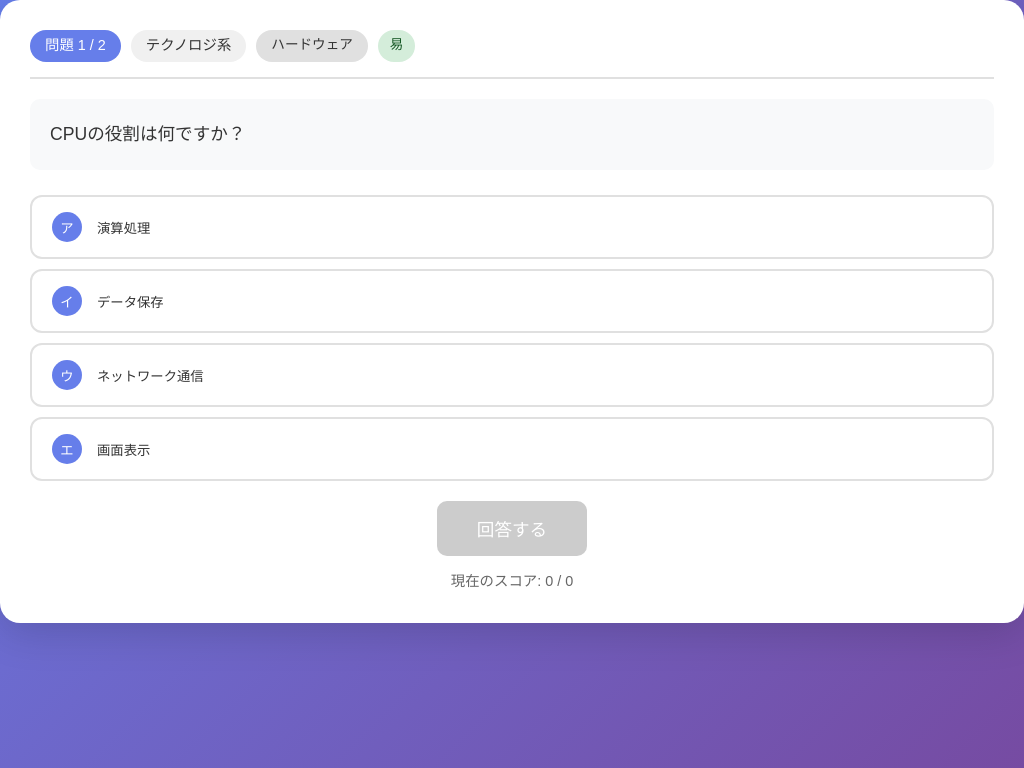
it: Quiz › answer selection › should enable submit button when answer selected
Expected: the button "回答する" is disabled, [437, 501, 587, 556]
What coordinates should you click on to do the following:
click the button "ア 演算処理"
I would click on:
 (124, 228)
Its box is [30, 195, 994, 259].
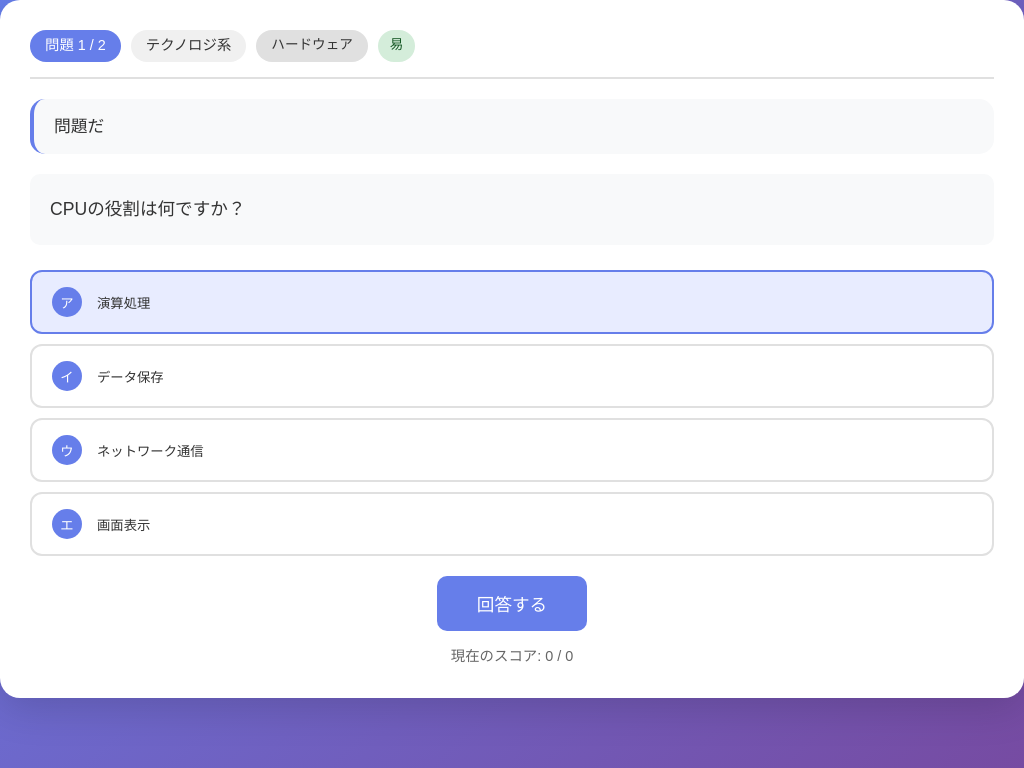
Expected: the button "回答する" is enabled, [437, 576, 587, 632]
